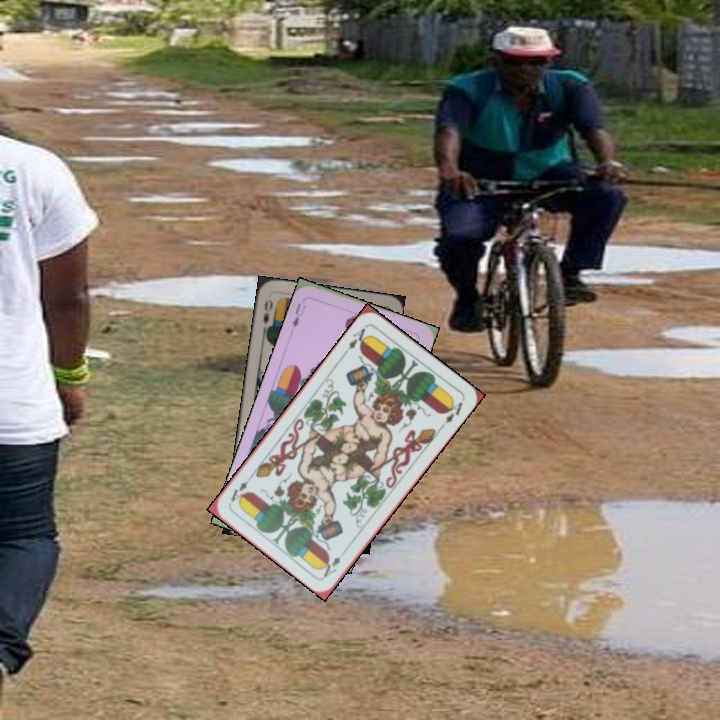EA: (319, 545, 349, 580), (340, 324, 371, 357)
EO: (259, 296, 277, 333)
EU: (288, 299, 309, 330)
